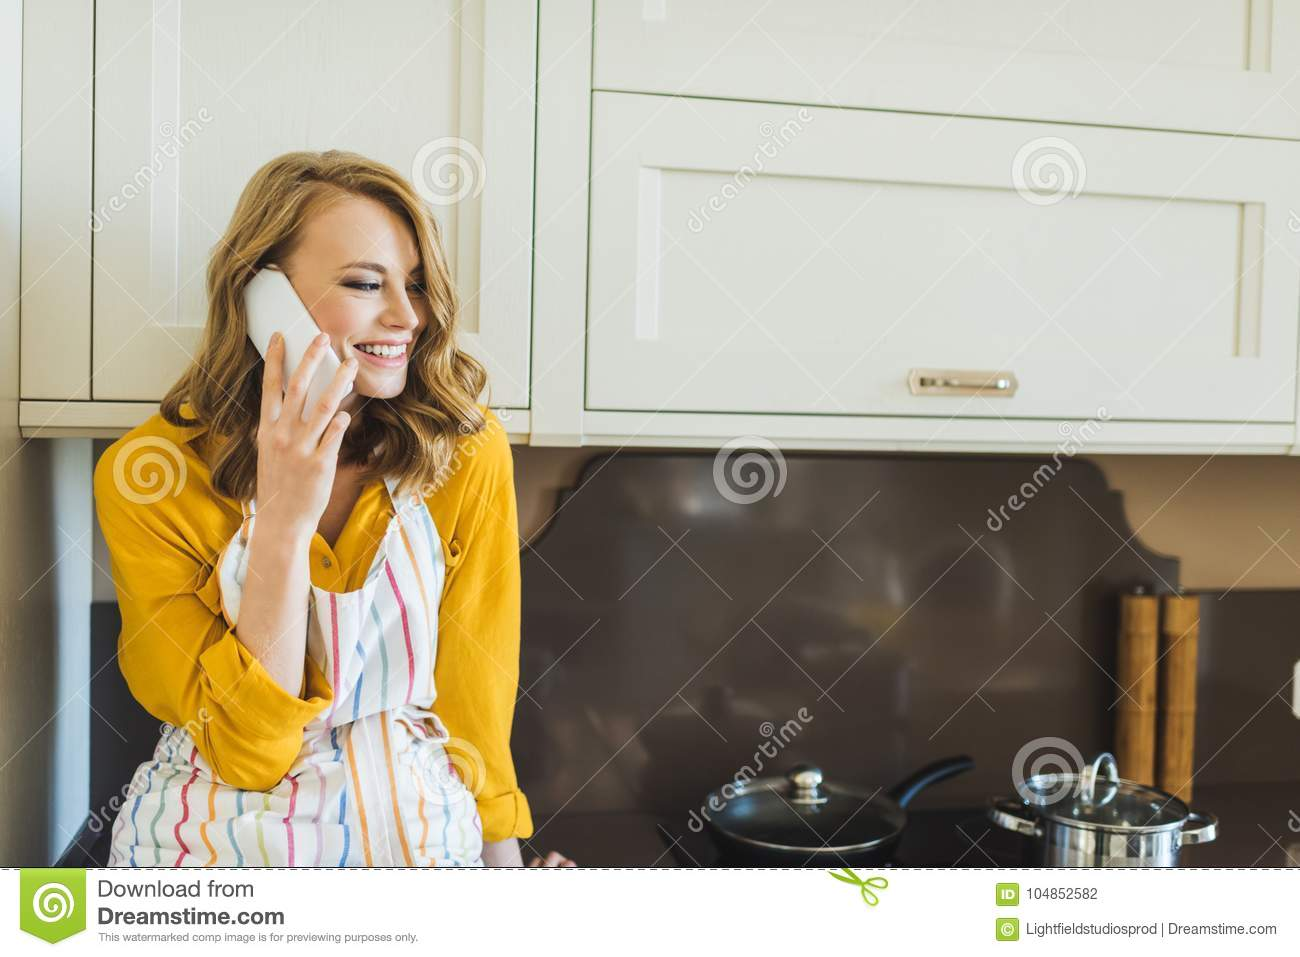phone: (236, 257, 357, 431)
talk: (241, 257, 427, 532)
